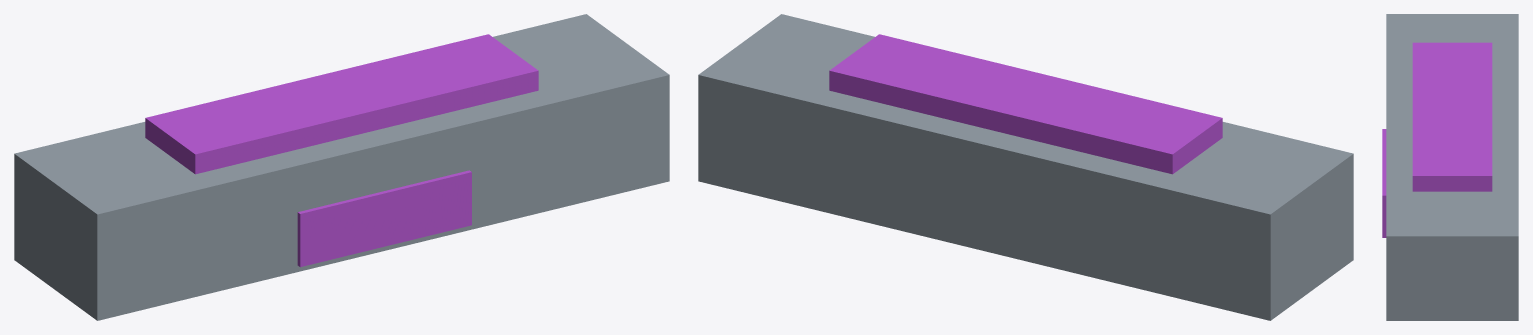
The model's file is CH_BathysSubmarine_LOD0.glb.
3 views of the same model, side by side, from view 1: azimuth 30°, elevation 25°; view 2: azimuth 150°, elevation 25°; view 3: azimuth 270°, elevation 25° (orthographic). The views are drawn at different scales.
Visible parts, largest first — view 1: EntranceGate; view 2: EntranceGate; view 3: EntranceGate.
Boxes of the visible parts, bbox=[...] form: EntranceGate: bbox=[14, 14, 669, 320]; EntranceGate: bbox=[698, 14, 1353, 320]; EntranceGate: bbox=[1382, 14, 1518, 320].
Size of the model in its own units: 1350 by 285 by 350.
